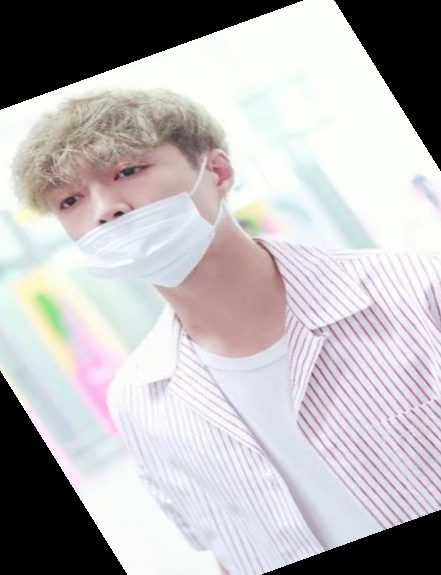mask_weared_incorrect: (1, 87, 237, 315)
